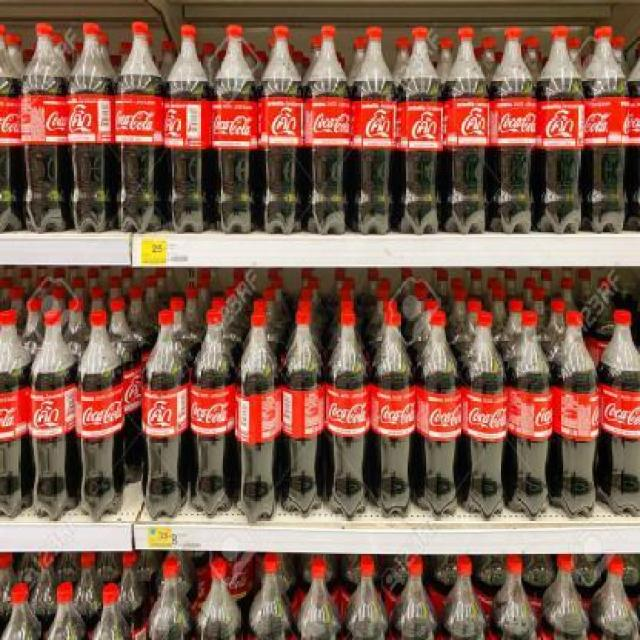Drinks: (114, 20, 163, 232), (163, 23, 211, 235), (67, 22, 115, 233), (19, 22, 67, 233), (142, 310, 190, 519), (211, 22, 258, 235), (442, 26, 490, 234), (536, 26, 584, 234), (395, 27, 443, 235), (304, 24, 351, 236), (552, 309, 599, 520), (188, 308, 235, 517), (258, 23, 304, 235), (76, 310, 122, 522), (234, 310, 280, 522), (30, 310, 76, 521), (370, 308, 416, 518), (584, 25, 630, 234), (461, 310, 507, 519), (506, 311, 552, 520), (350, 26, 396, 234), (491, 26, 537, 234), (325, 310, 370, 521), (415, 312, 460, 519), (281, 308, 325, 518), (598, 308, 640, 518), (0, 310, 29, 518)
